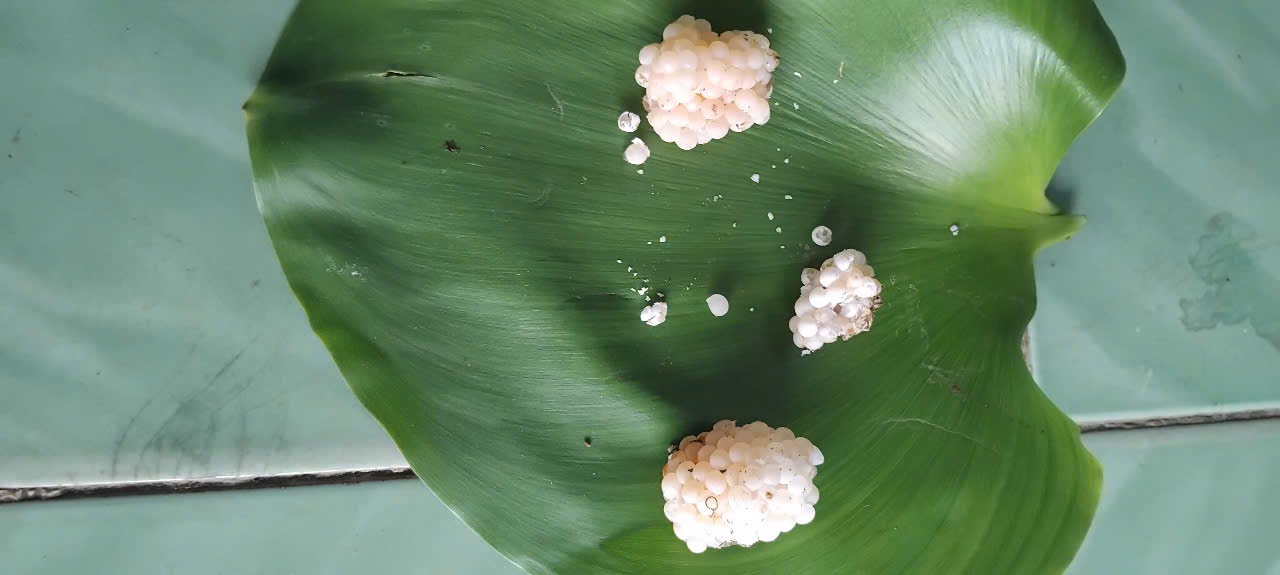trung_oc_buou_den: (620, 15, 881, 575)
